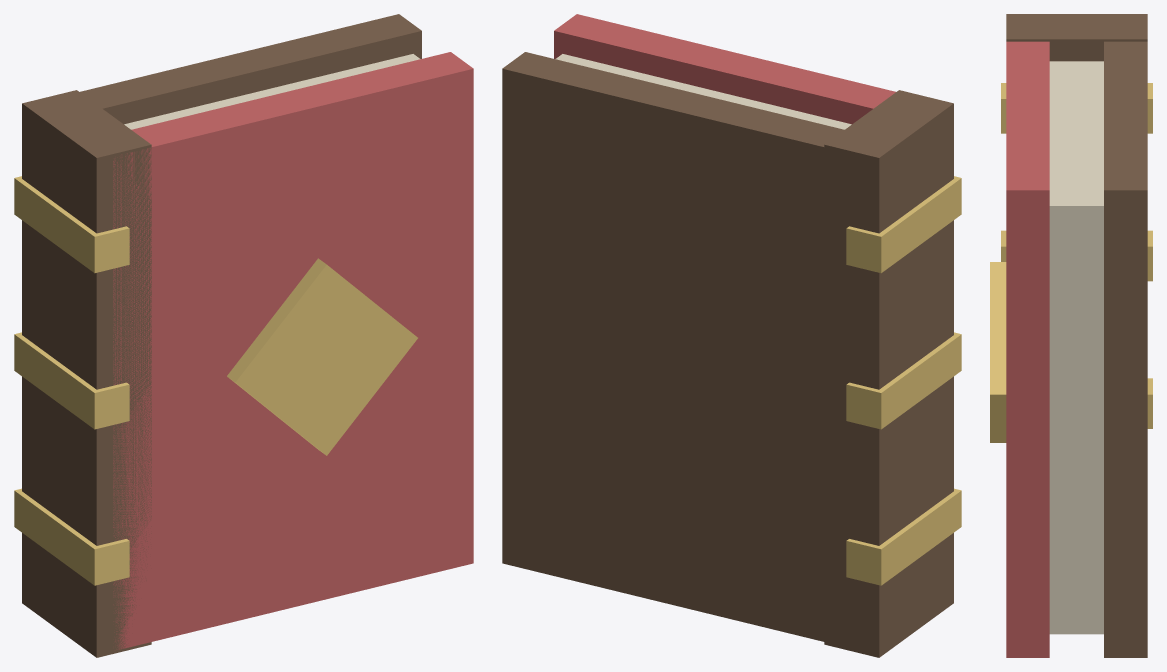
The model's file is LP_Item_V02.fbx.
The picture shows the model from 3 angles, left to right: view 1: azimuth 30°, elevation 25°; view 2: azimuth 150°, elevation 25°; view 3: azimuth 270°, elevation 25°; orthographic projection. The views are drawn at different scales.
Visible parts, largest first — view 1: ArtifactMesh; view 2: ArtifactMesh; view 3: ArtifactMesh.
Part boxes in pixels (<box>): ArtifactMesh: <box>14,14,473,657</box>; ArtifactMesh: <box>502,14,961,657</box>; ArtifactMesh: <box>990,14,1152,657</box>.
Bounding box in the file's own units: 0.1535 × 0.192 × 0.06.
